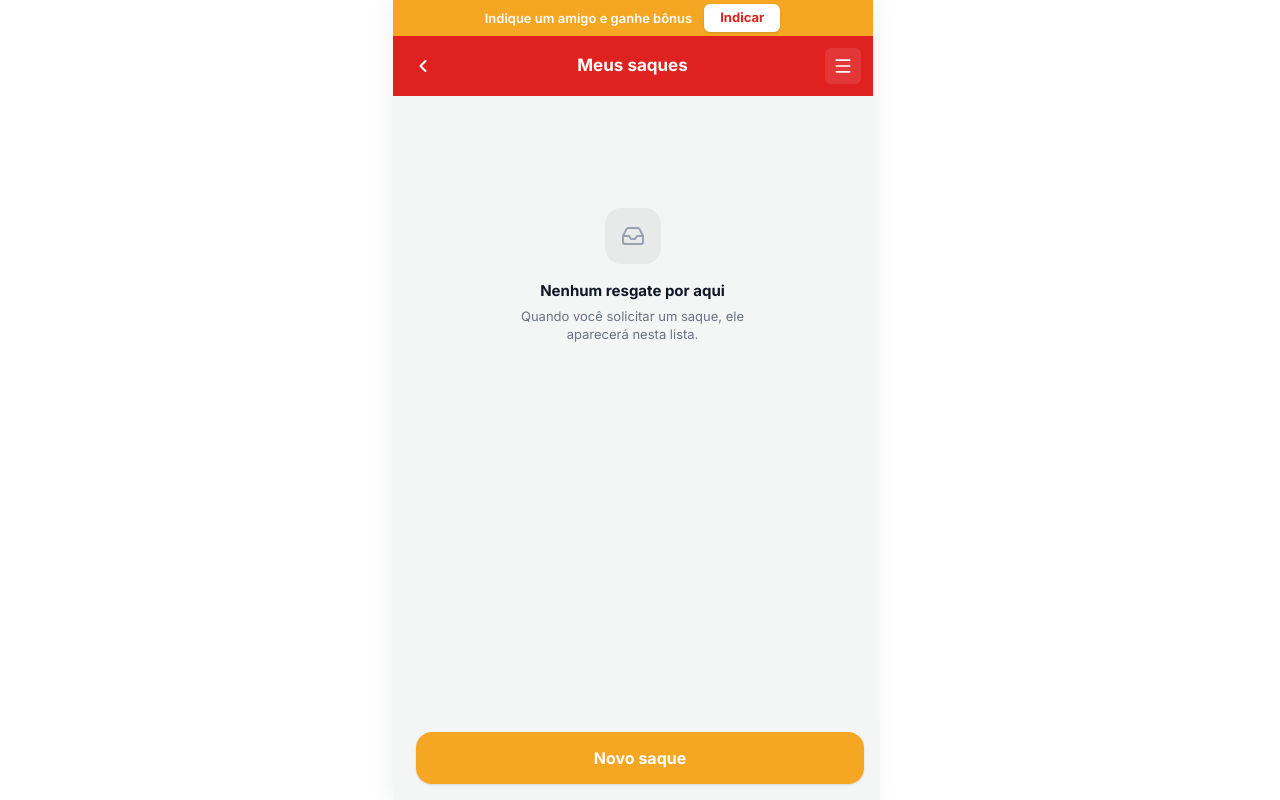
it: Confirmar saque › mostra valor, forma e destino para conferir antes de solicitar
The width and height of the screenshot is (1280, 800).
Click the button "Novo saque". click: (640, 758)
box: [416,732,864,784]
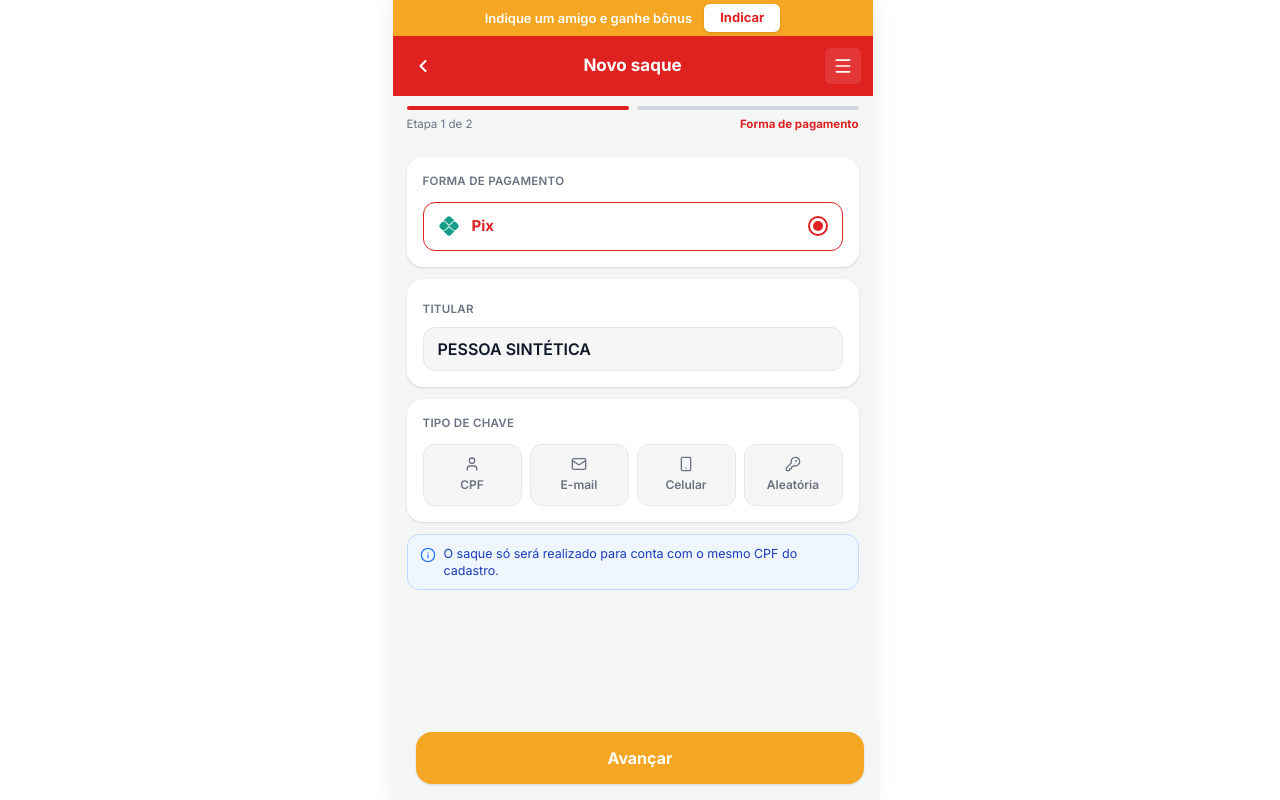
Click the radio button labelled "CPF". click: (472, 475)
box: [422,444,522,506]
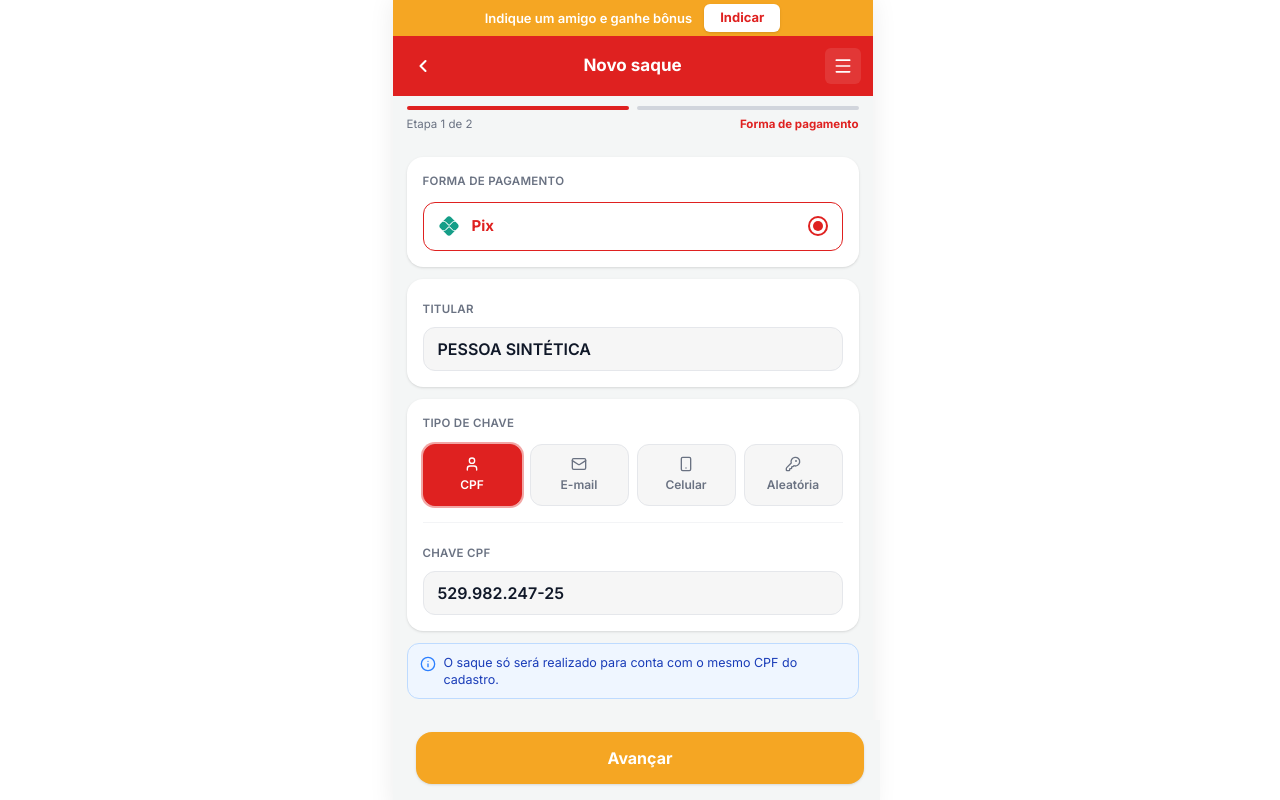
Click the button "Avançar". click: (640, 758)
box: [416,732,864,784]
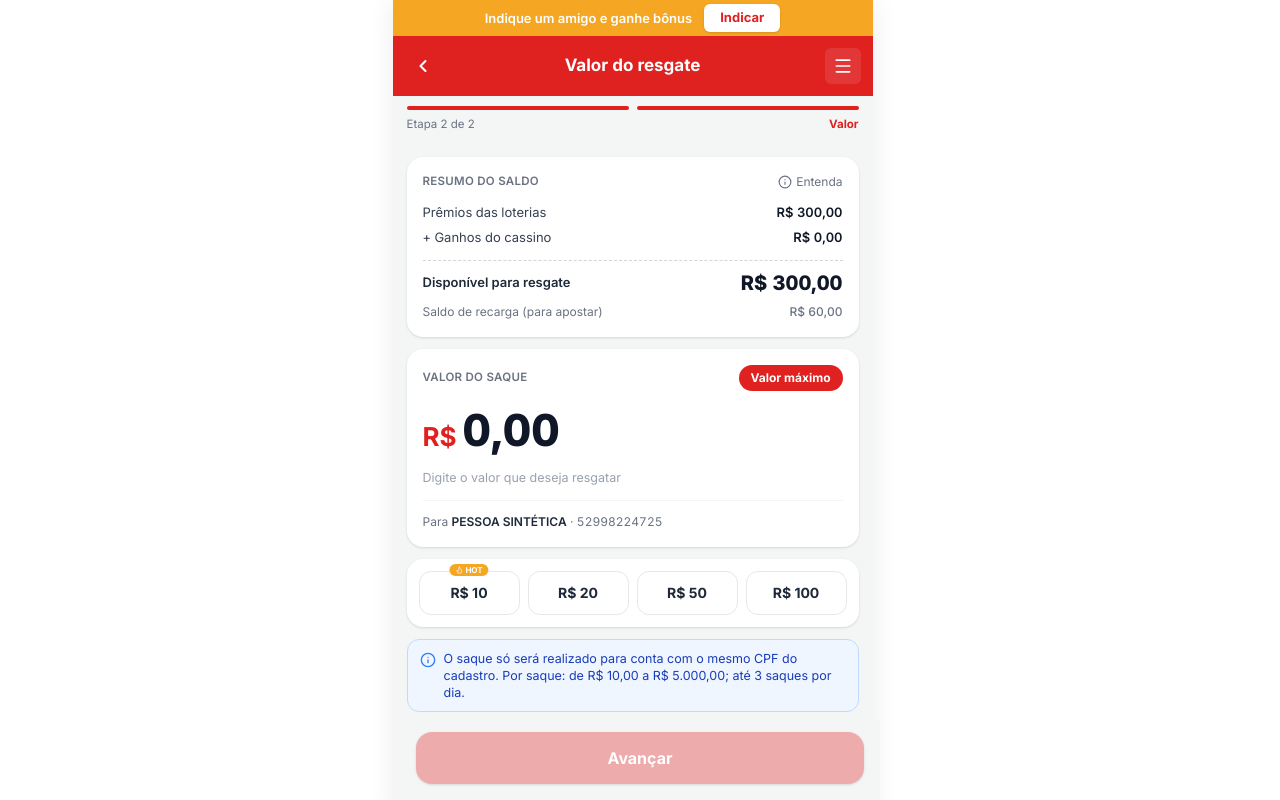
Click the button named "Sacar R$ 50,00". click: (687, 592)
box: [636,570,738,614]
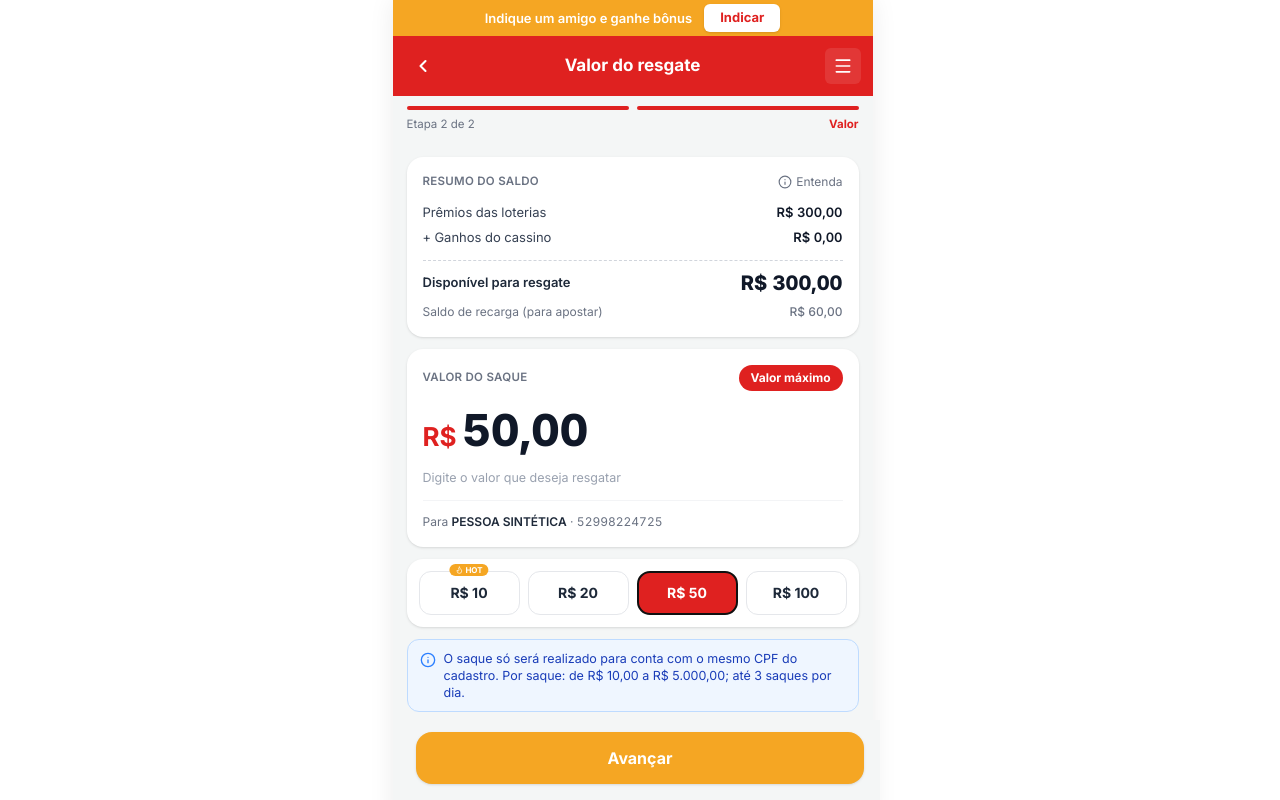
Click the button "Avançar". click: (640, 758)
box: [416,732,864,784]
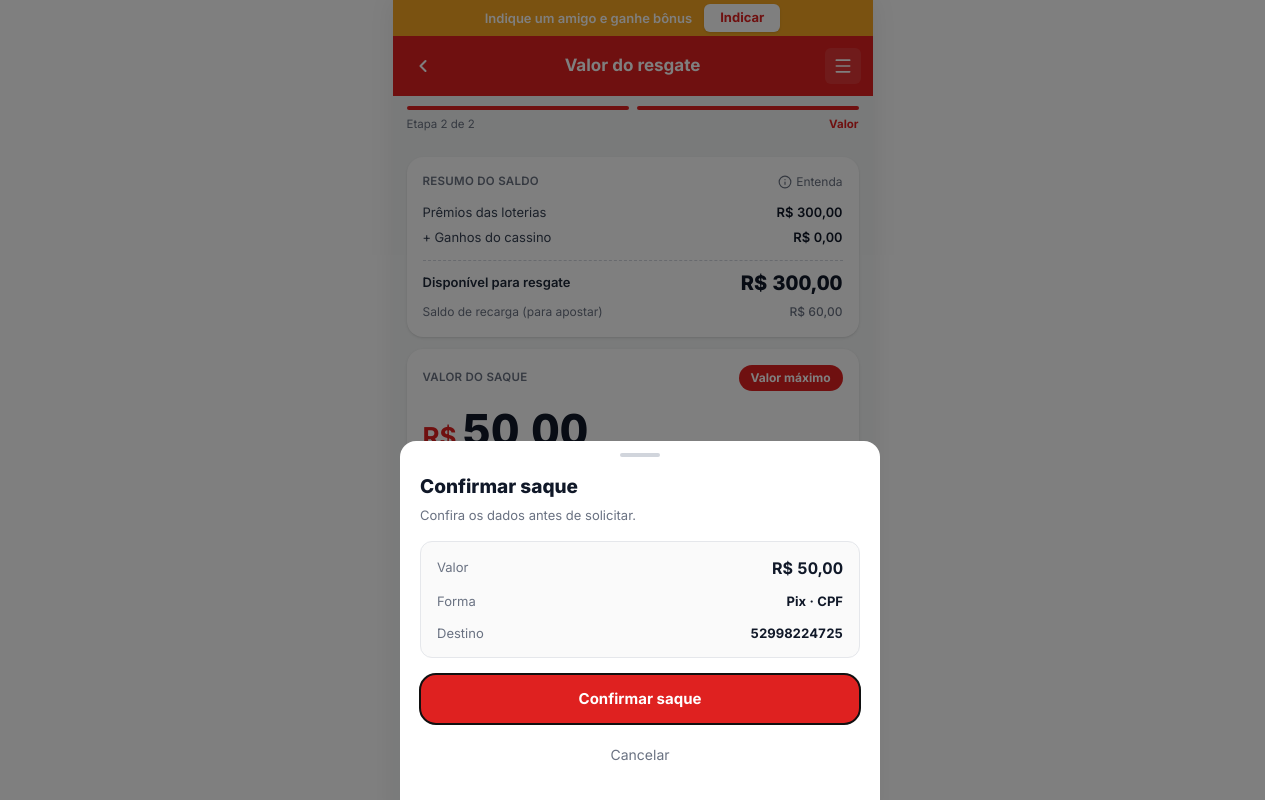
Expected: the text "Confira os dados antes de solicitar." is shown, [420,506,636,522]
Expected: the text "R$ 50,00" is shown, [772,556,843,580]
Expected: the text "Pix · CPF" is shown, [786,592,843,612]
